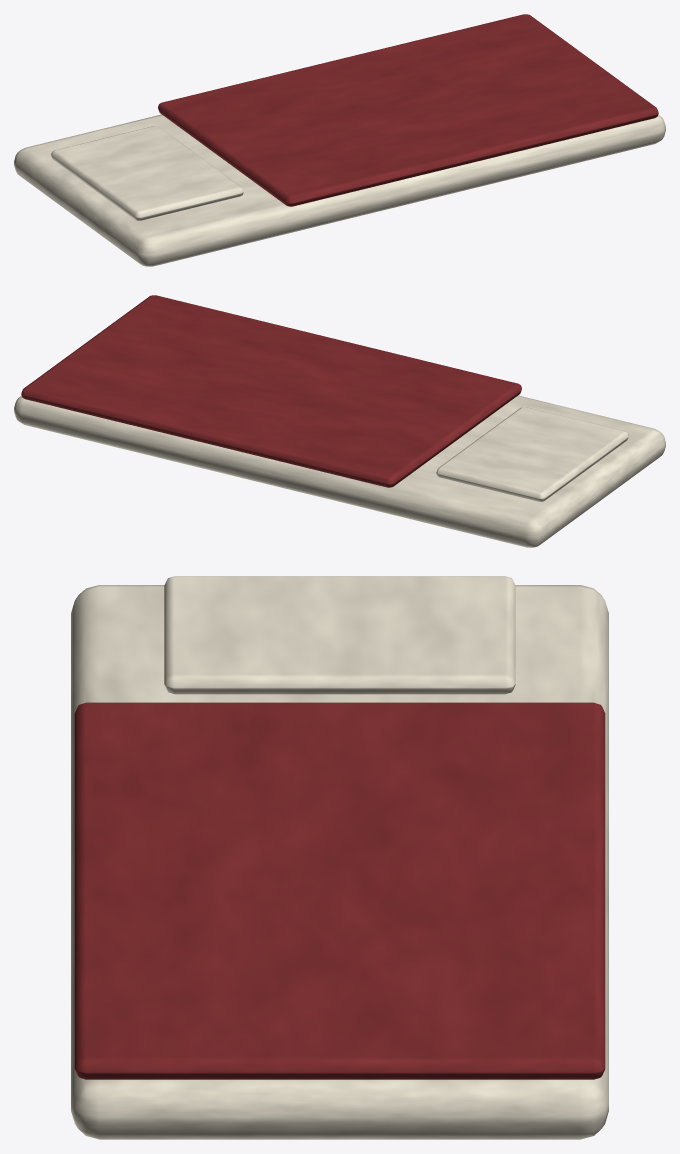
Rendered from Furn_GuestFuton.fbx.
3 views of the same model, one above another, from view 1: azimuth 30°, elevation 25°; view 2: azimuth 150°, elevation 25°; view 3: azimuth 270°, elevation 25° (orthographic). The views are drawn at different scales.
Parts seen in each view (by area): view 1: Furn_GuestFuton_Mesh; view 2: Furn_GuestFuton_Mesh; view 3: Furn_GuestFuton_Mesh.
Boxes of the visible parts, <box> form: Furn_GuestFuton_Mesh: <box>14,14,665,266</box>; Furn_GuestFuton_Mesh: <box>14,295,665,547</box>; Furn_GuestFuton_Mesh: <box>71,576,608,1139</box>.
Bounding box in the file's own units: 1.7 × 0.12 × 0.75.
2 materials, 2 textured.
